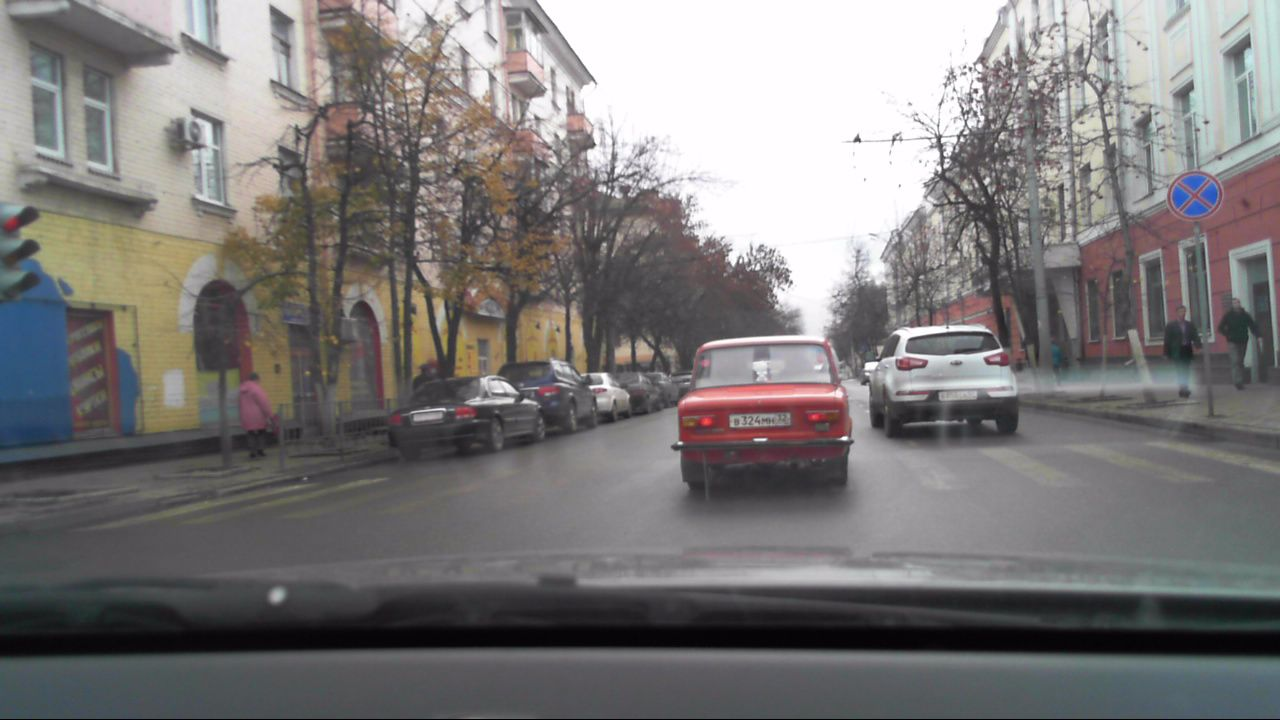No Parking: (1166, 170, 1228, 225)
